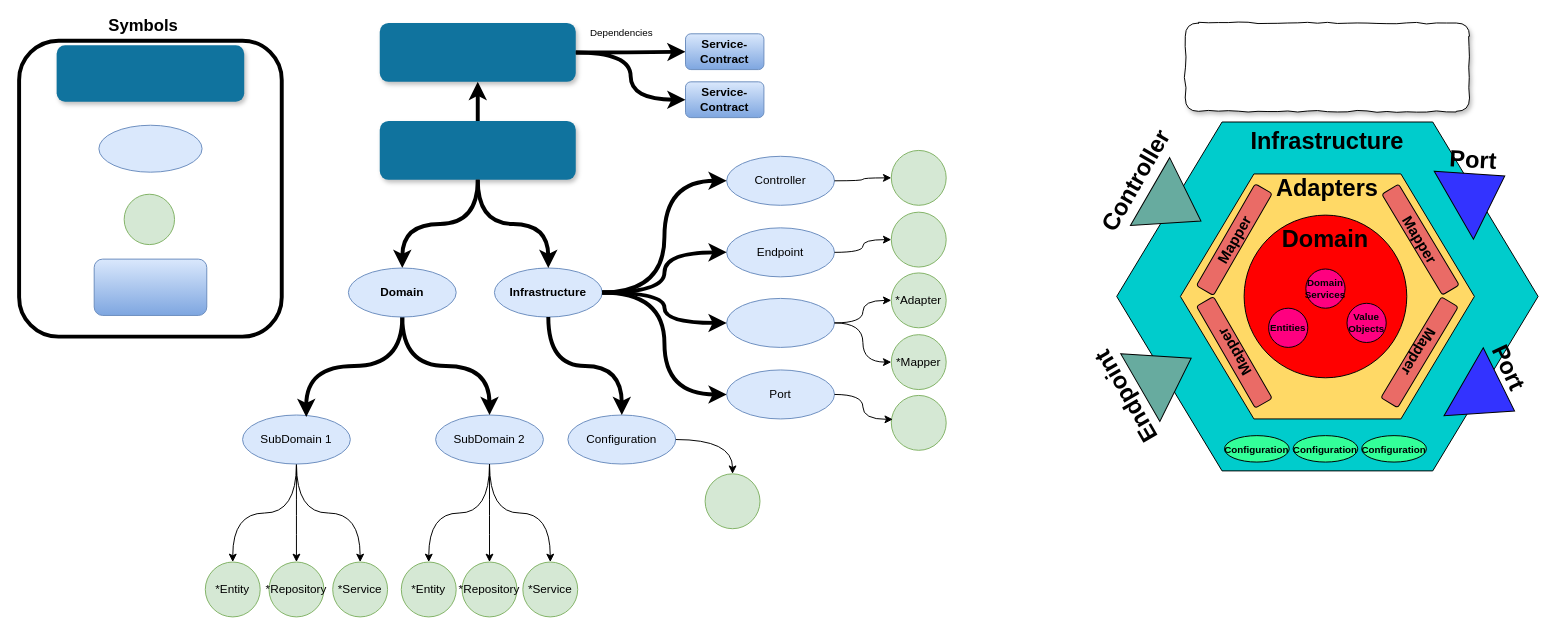
Some shapes in this 1555 by 634 pixel diagram are drawn without their labels. Each missing label, with the centre of its shape:
"*Configuration" belongs at pixel 732 501.
"*Controller" belongs at pixel 918 177.
"*Endpoint" belongs at pixel 918 239.
"*Port" belongs at pixel 918 422.
"Adapter" belongs at pixel 780 322.
"Application" belongs at pixel 478 151.
"Application-Contracts" belongs at pixel 478 53.
"Class" belongs at pixel 149 219.
"External Artifact" belongs at pixel 150 286.
"Hexagonal/Clean/Onion Architecture DDD Style" belongs at pixel 1327 68.
"Maven module" belongs at pixel 151 74.
"Package" belongs at pixel 150 148.
